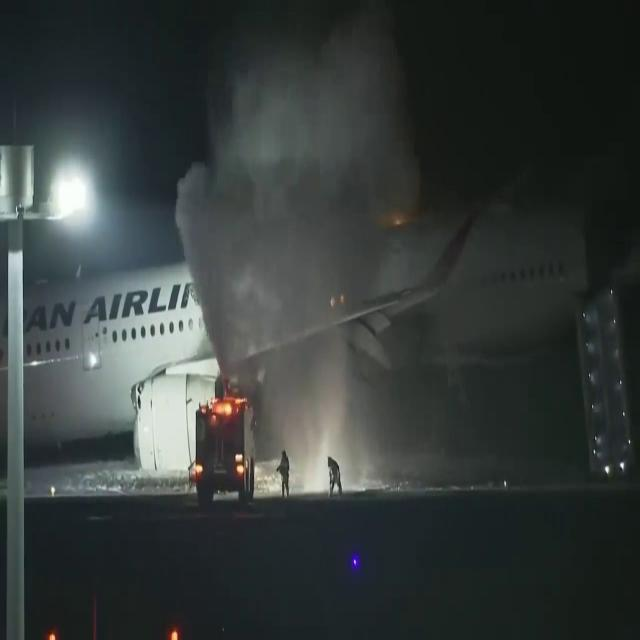Smoke: (172, 1, 428, 416)
